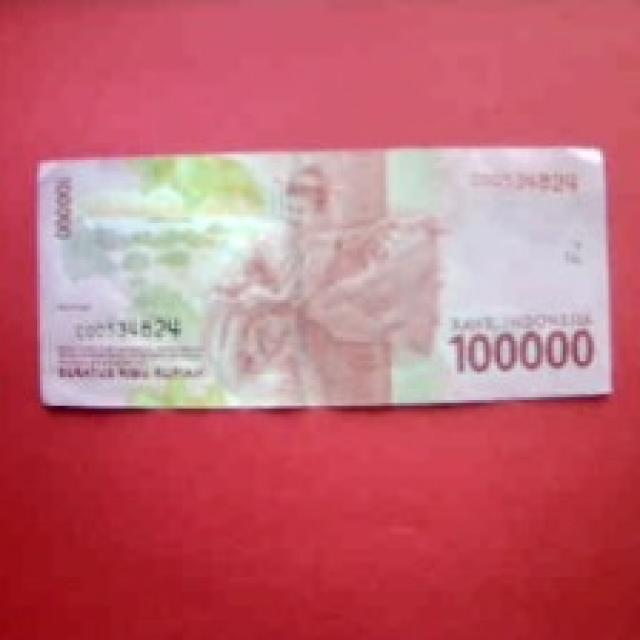lima puluh ribu rupiah: (39, 140, 622, 410)
